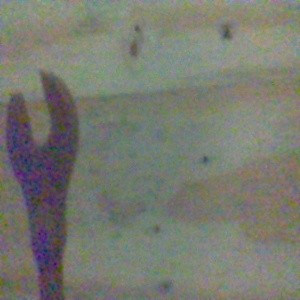spanner: (5, 69, 80, 300)
